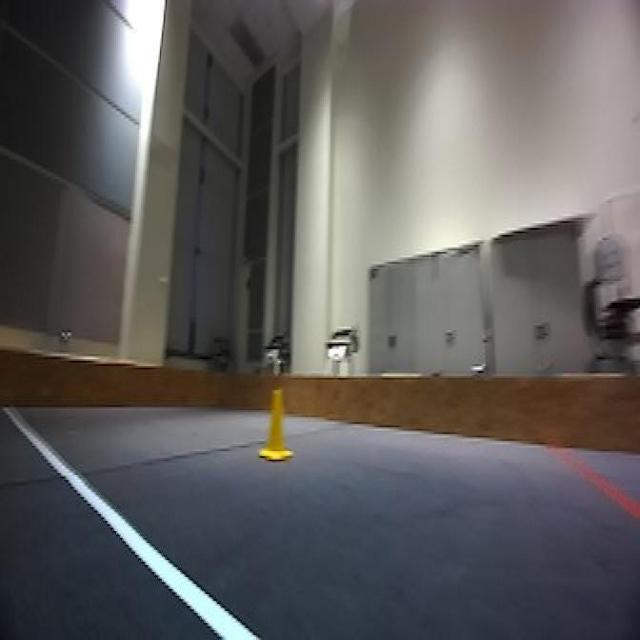frc_cone: (261, 383, 293, 465)
